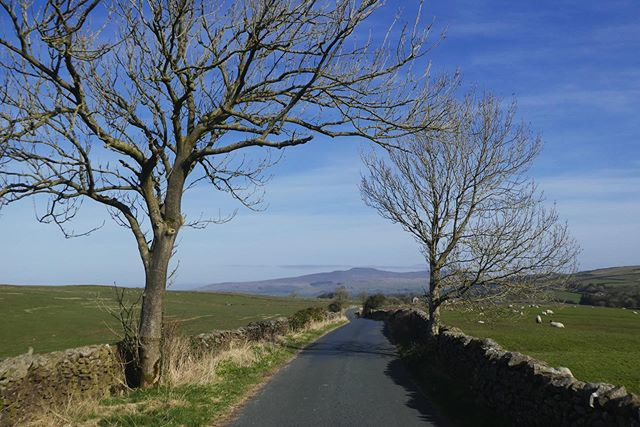grass: (1, 283, 288, 349), (475, 305, 640, 382)
road: (216, 299, 448, 427)
sky: (1, 1, 636, 257)
tree: (7, 1, 320, 370), (374, 95, 562, 337)
